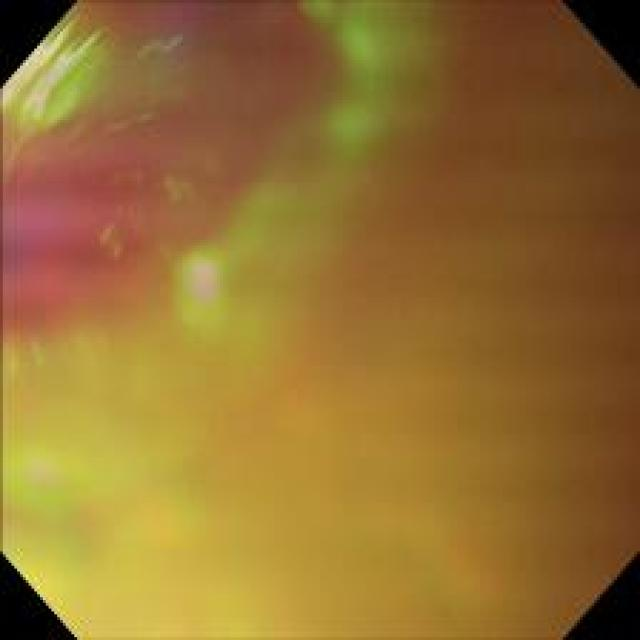color misalignment: (12, 20, 625, 635)
